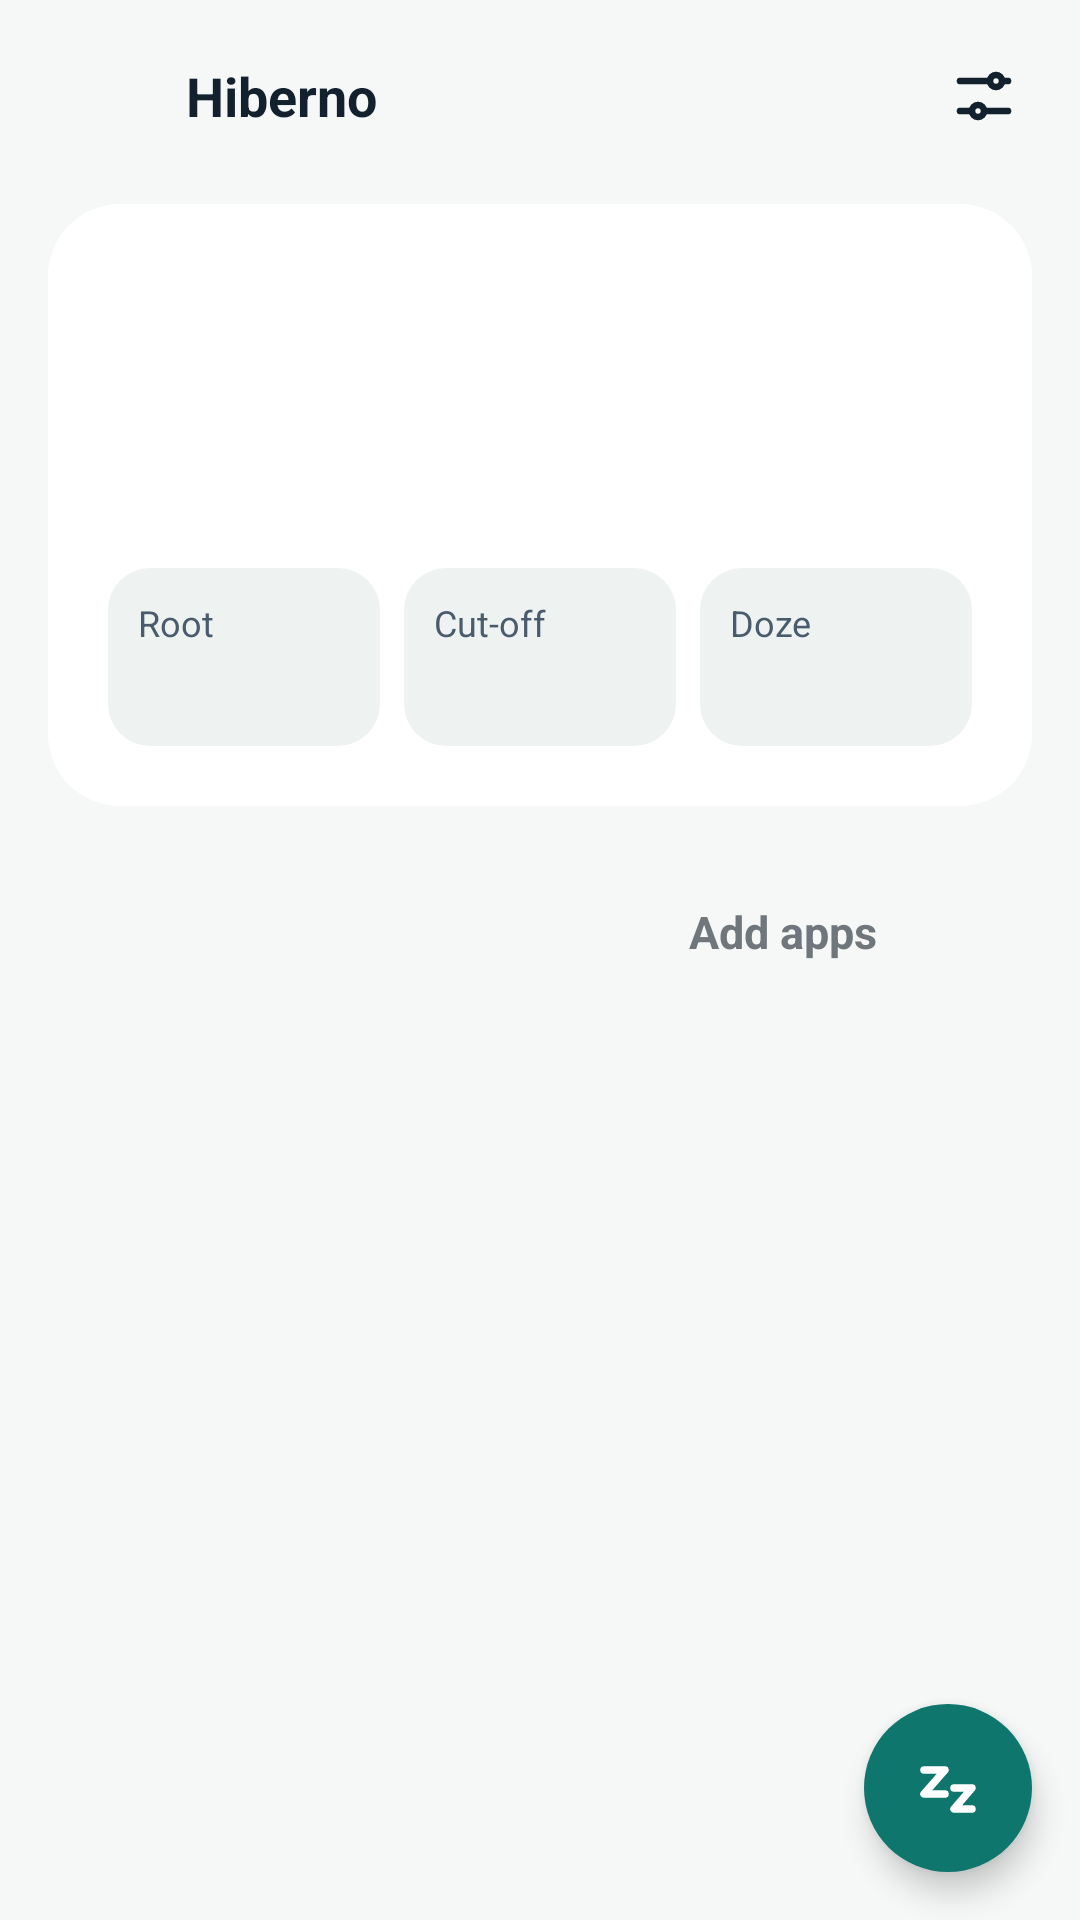

Where to tap for icons on this 1080px×1920px app screen, as (x=x, y=y):
Hibernate now: (x=948, y=1788)
Settings: (x=984, y=96)
